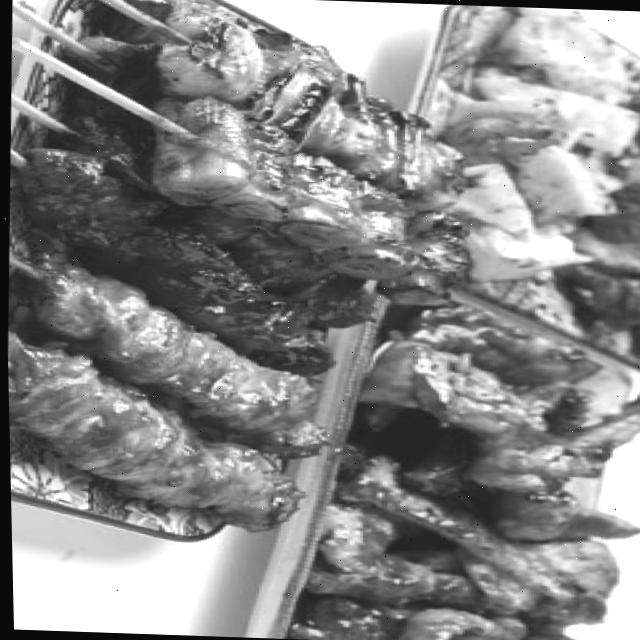烧串烤肉: (0, 0, 500, 547)
